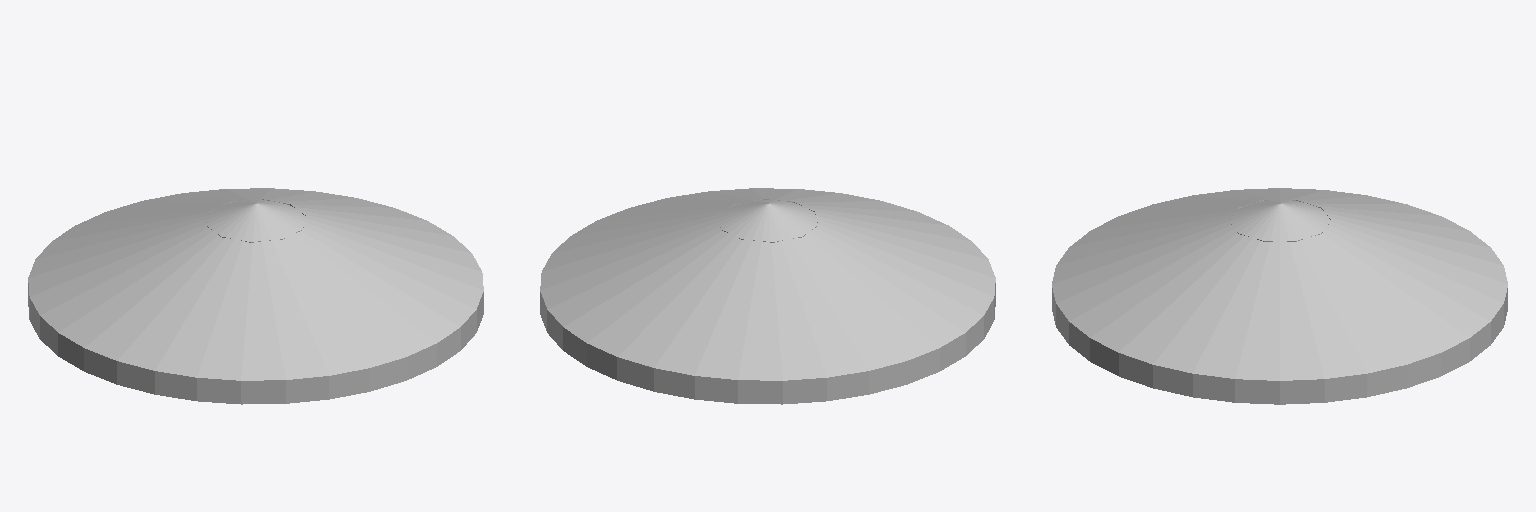
3 renders of one model, left to right at view 1: azimuth 30°, elevation 25°; view 2: azimuth 150°, elevation 25°; view 3: azimuth 270°, elevation 25°, orthographic.
Visible parts, largest first — view 1: CeilingLightMain; view 2: CeilingLightMain; view 3: CeilingLightMain.
Part boxes in pixels (x1,y1,x2,y2): CeilingLightMain: (28, 188, 483, 404); CeilingLightMain: (540, 188, 995, 404); CeilingLightMain: (1052, 188, 1507, 404).
Bounding box in the file's own units: 2 × 0.5047 × 2.